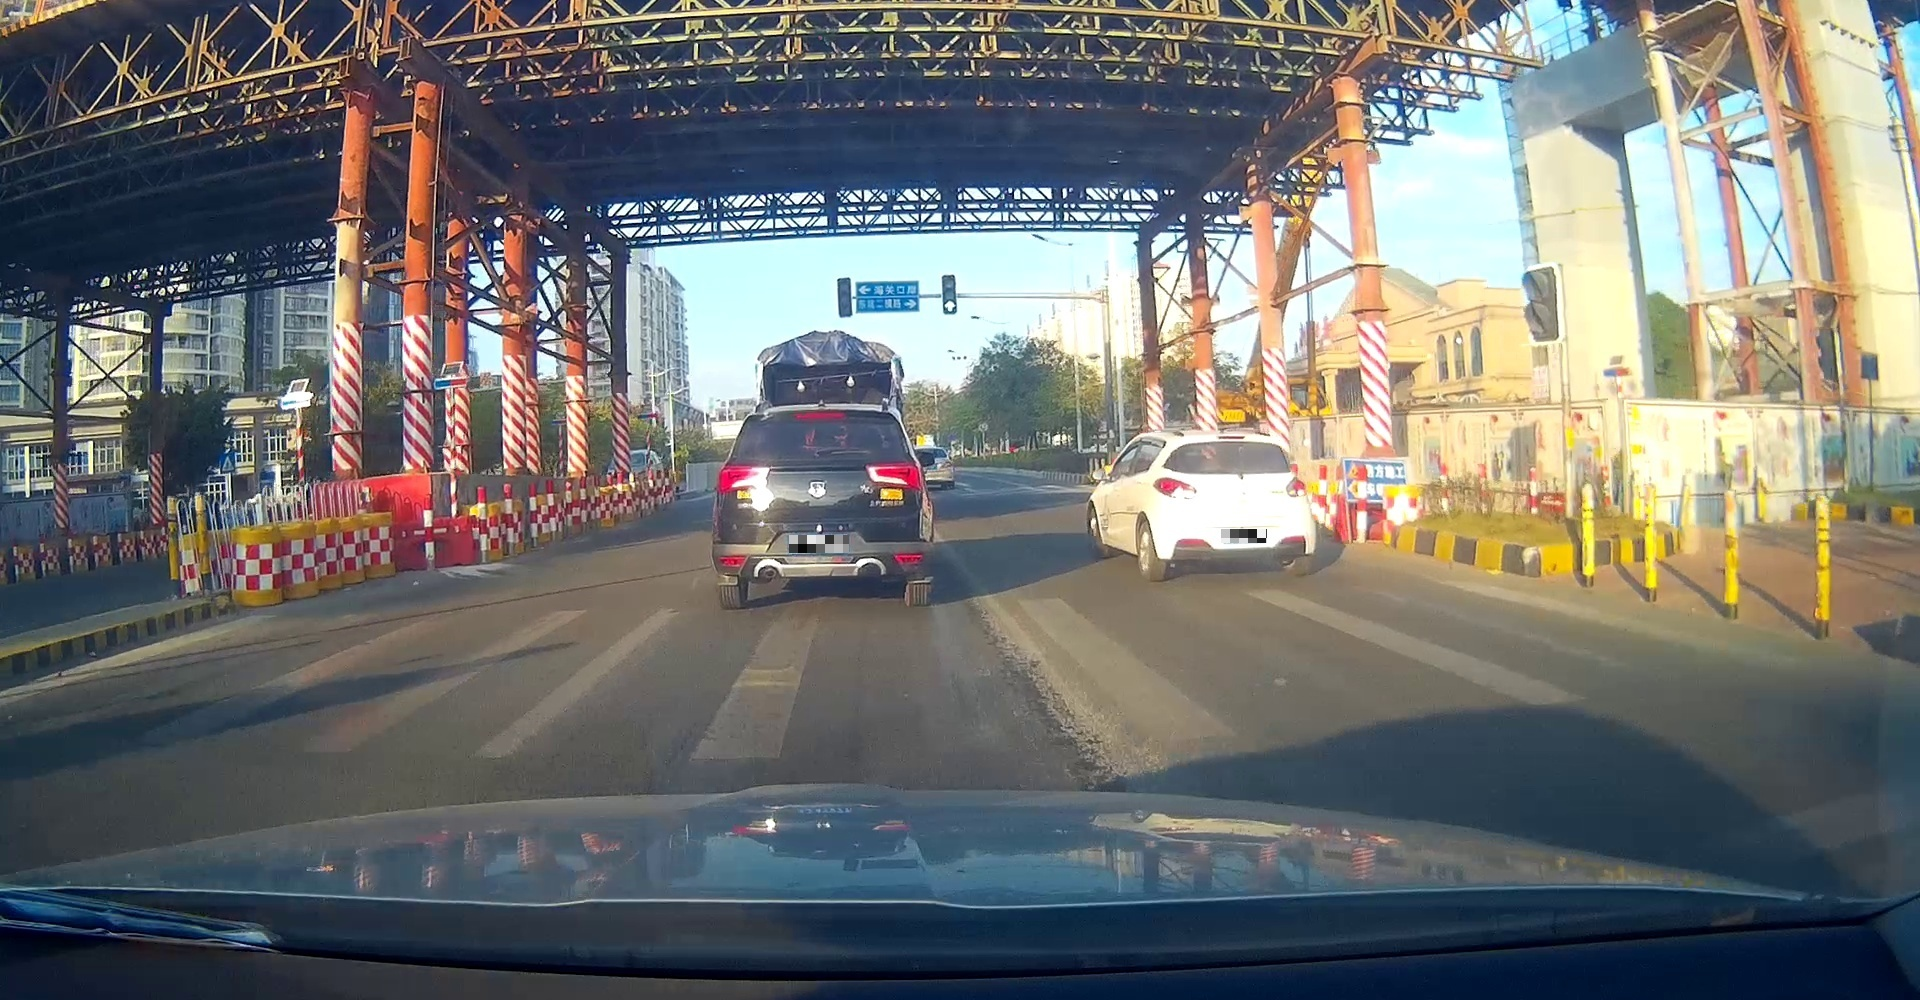L_light: (717, 463, 771, 491), (1154, 476, 1197, 500)
R_light: (865, 462, 924, 489), (1285, 478, 1309, 497)
T_light: (795, 411, 844, 419), (1219, 442, 1250, 448)
day-brake: (711, 406, 931, 608)
day-no: (1152, 431, 1317, 577)
plate_1: (789, 536, 850, 553)
plate_2: (1222, 529, 1267, 543)
